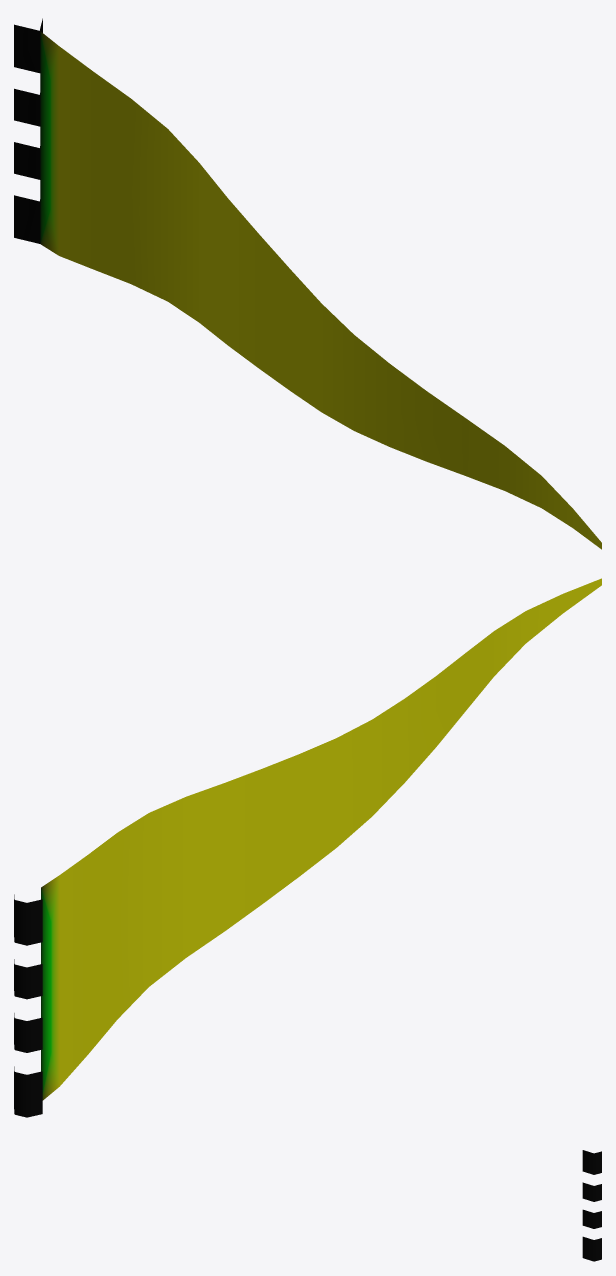
File: SM_Flag_v1.glb
3 views of the same model, one above another, from view 1: azimuth 30°, elevation 25°; view 2: azimuth 150°, elevation 25°; view 3: azimuth 270°, elevation 25° (orthographic). The views are drawn at different scales.
Parts seen in each view (by area): view 1: SM_Flag_v1_LOD0; view 2: SM_Flag_v1_LOD0; view 3: SM_Flag_v1_LOD0.
Part boxes in pixels (x1,y1,x2,y2): SM_Flag_v1_LOD0: (14, 18, 601, 549); SM_Flag_v1_LOD0: (14, 578, 601, 1117); SM_Flag_v1_LOD0: (582, 1150, 601, 1261).
Bounding box in the file's own units: 0.0581 × 0.4142 × 2.03.
